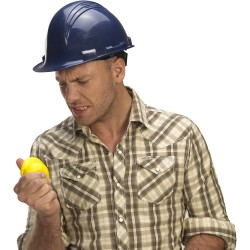casque: (19, 3, 158, 140)
